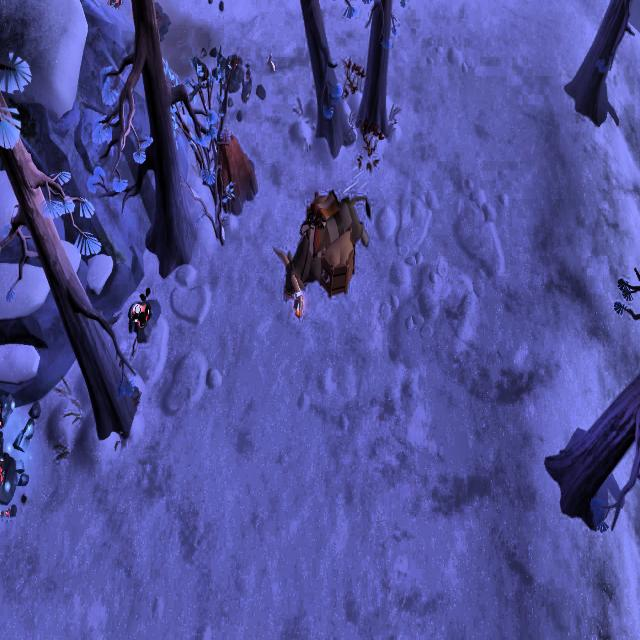rock_t5: (212, 127, 257, 215)
